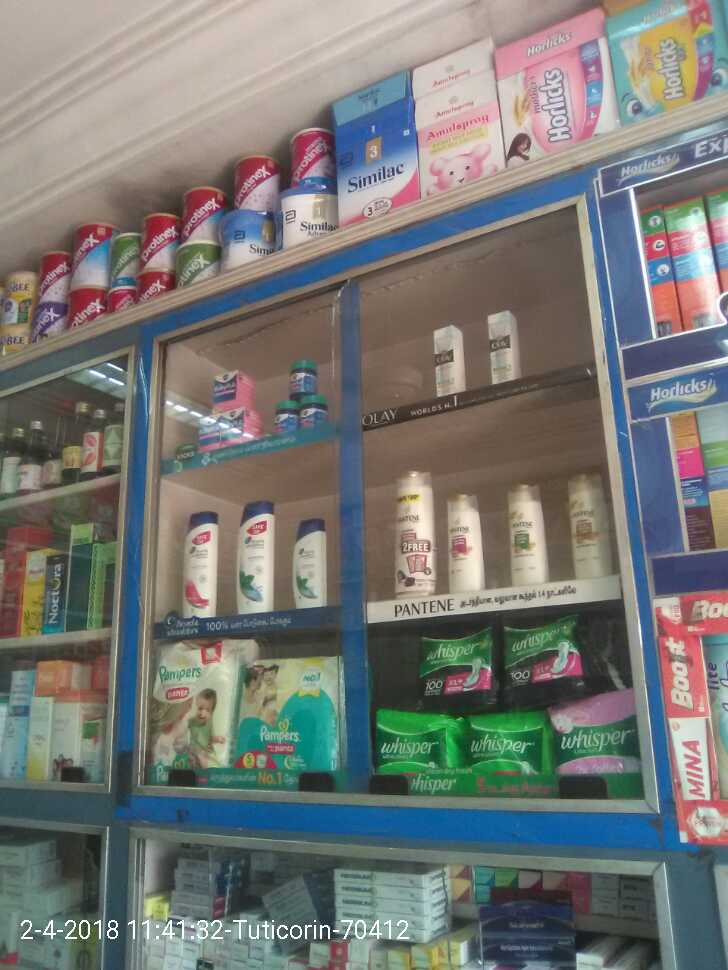vicks: (188, 363, 260, 438), (276, 358, 333, 433)
